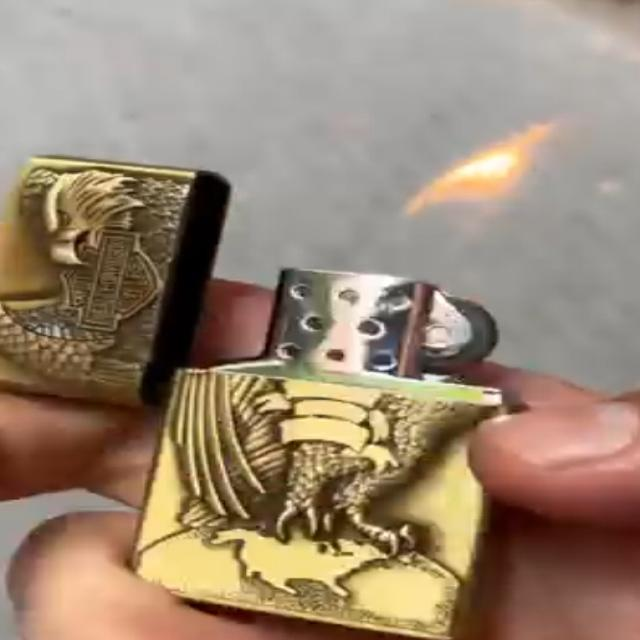fire: (403, 122, 557, 218)
